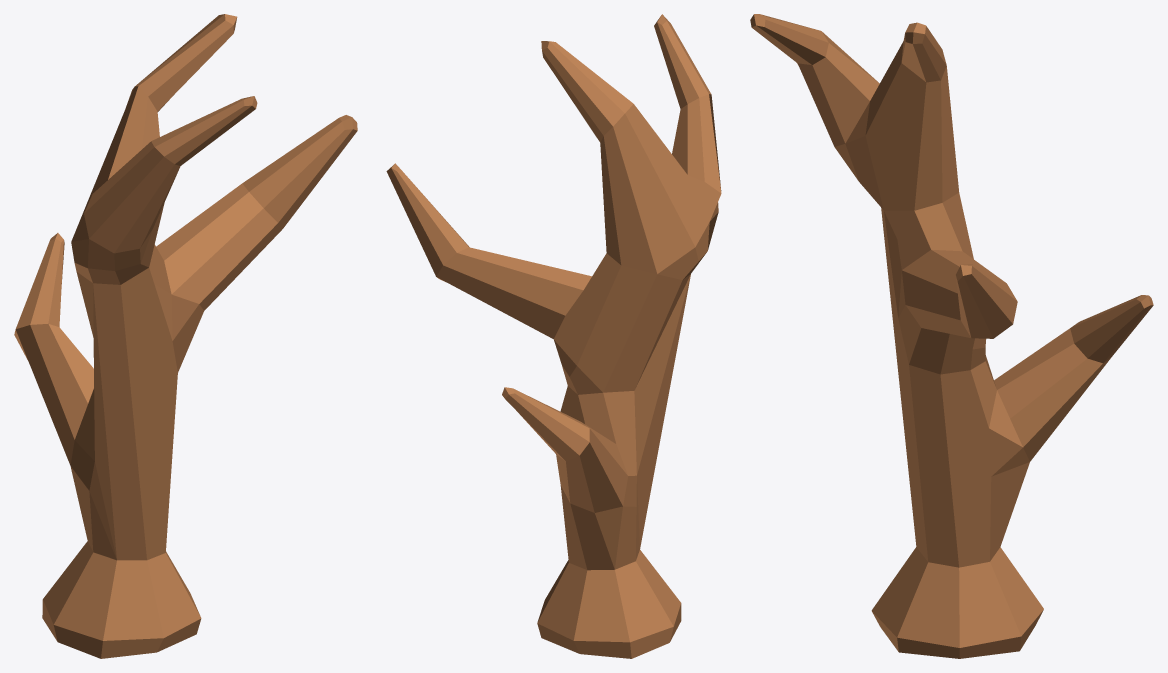
Rendered from Tree10Rot.fbx.
The picture shows the model from 3 angles, left to right: view 1: azimuth 30°, elevation 25°; view 2: azimuth 150°, elevation 25°; view 3: azimuth 270°, elevation 25°; orthographic projection. The views are drawn at different scales.
Parts seen in each view (by area): view 1: Tree10Rot; view 2: Tree10Rot; view 3: Tree10Rot.
Part boxes in pixels (x1=…): Tree10Rot: x1=14, y1=14, x2=357, y2=658; Tree10Rot: x1=386, y1=14, x2=721, y2=658; Tree10Rot: x1=750, y1=14, x2=1153, y2=658.
Size of the model in its own units: 228 by 415 by 234.
